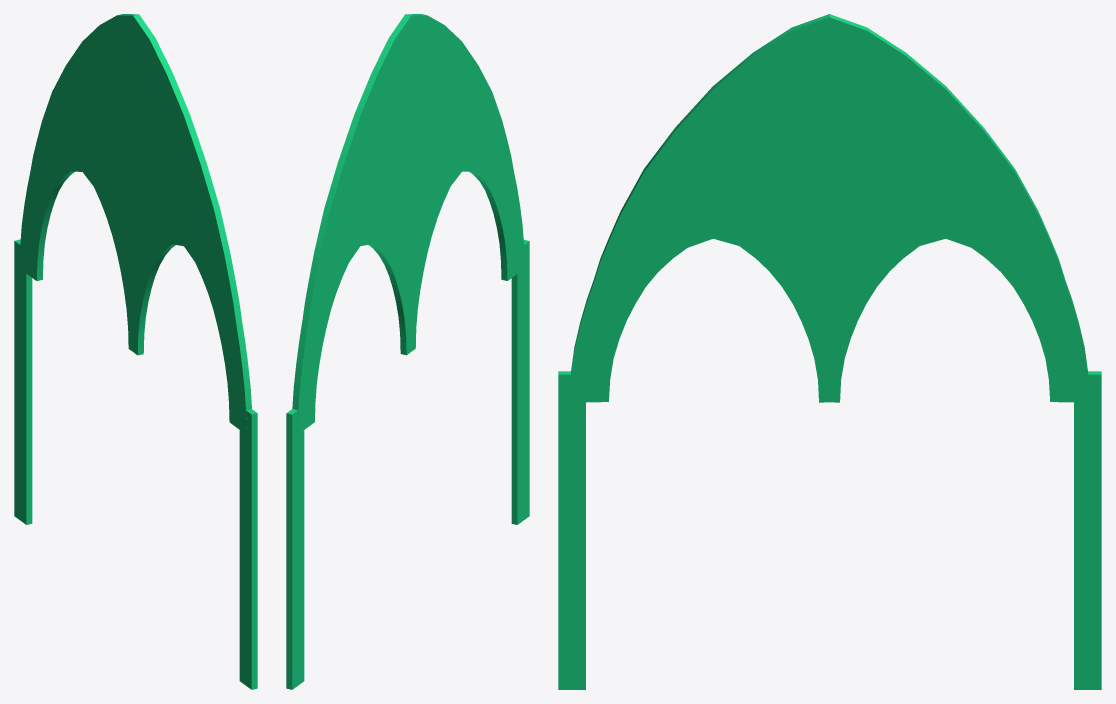
The model's file is Wall_Arc_01D_Lod0.fbx.
3 views of the same model, side by side, from view 1: azimuth 30°, elevation 25°; view 2: azimuth 150°, elevation 25°; view 3: azimuth 270°, elevation 25° (orthographic). The views are drawn at different scales.
Parts seen in each view (by area): view 1: Wall_Arc_01D_Lod0; view 2: Wall_Arc_01D_Lod0; view 3: Wall_Arc_01D_Lod0.
Boxes of the visible parts, bbox=[...] form: Wall_Arc_01D_Lod0: bbox=[14, 14, 257, 689]; Wall_Arc_01D_Lod0: bbox=[286, 14, 529, 689]; Wall_Arc_01D_Lod0: bbox=[558, 14, 1101, 689].
Size of the model in its own units: 6.89 by 640 by 469.
